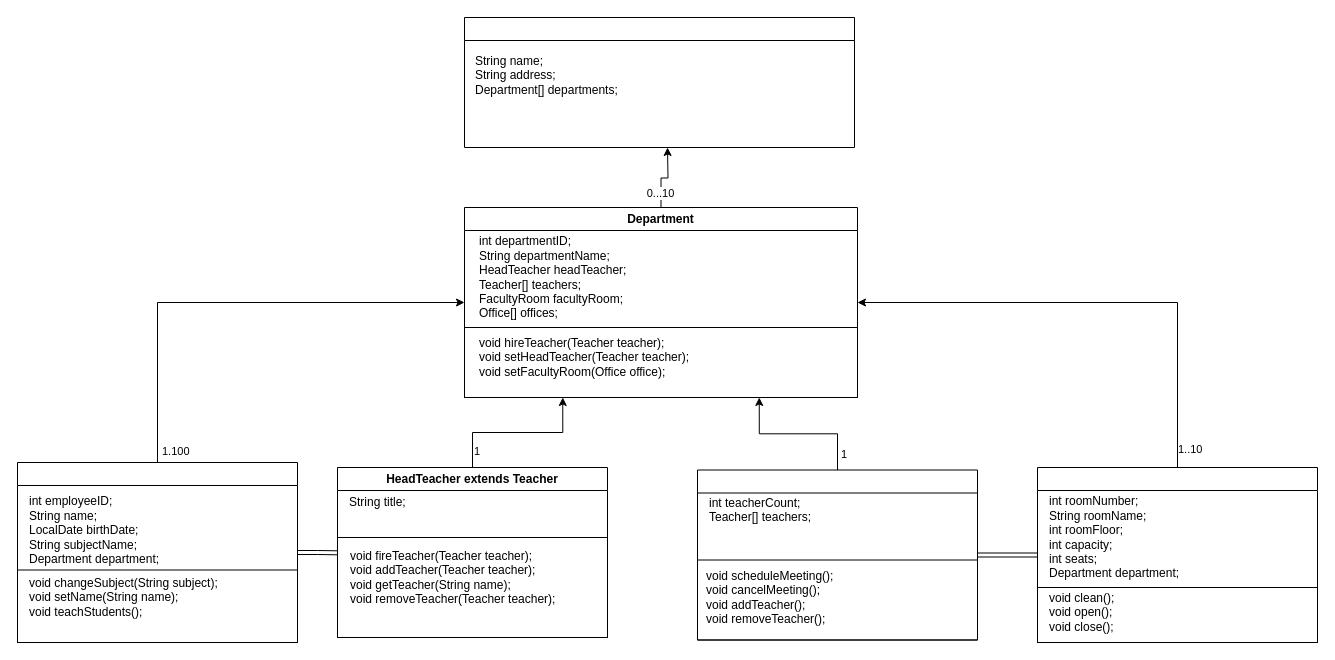
This 1335x660 diagram has some shape labels left out. Here are the shapes that lost their labels. From the top down, the box of each, then its label:
(464, 16, 854, 148): School
(16, 462, 298, 642): Teacher
(696, 469, 978, 640): FacultyRoom extends Office
(1036, 466, 1318, 642): Office
